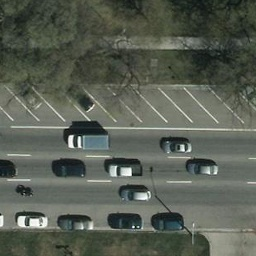car: (12, 77, 43, 106), (67, 83, 98, 111), (67, 134, 111, 153), (50, 158, 85, 177), (107, 162, 143, 177), (56, 215, 93, 229), (105, 213, 142, 227), (149, 215, 186, 229), (122, 185, 151, 201), (164, 137, 193, 153), (188, 162, 217, 178), (16, 213, 45, 229)
